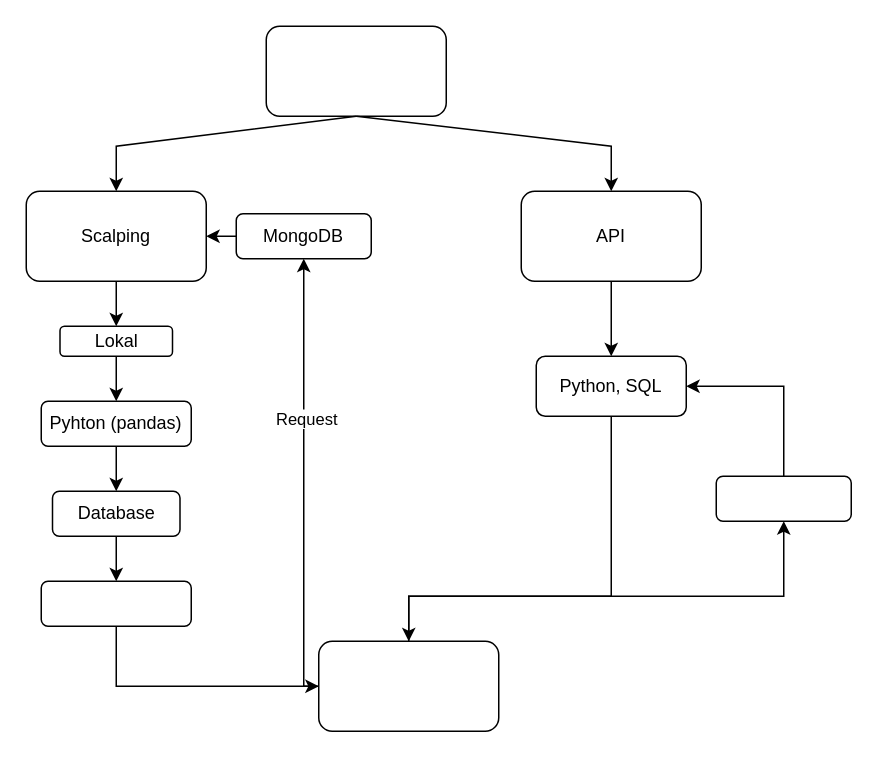
Image size: 878x758. Some labels were removed from this diagram. Each missing label, with the centre of its shape:
"Input keyword" goes at (783,498).
"SQL" goes at (115,603).
"Twitter" goes at (355,70).
"Website" goes at (408,685).
